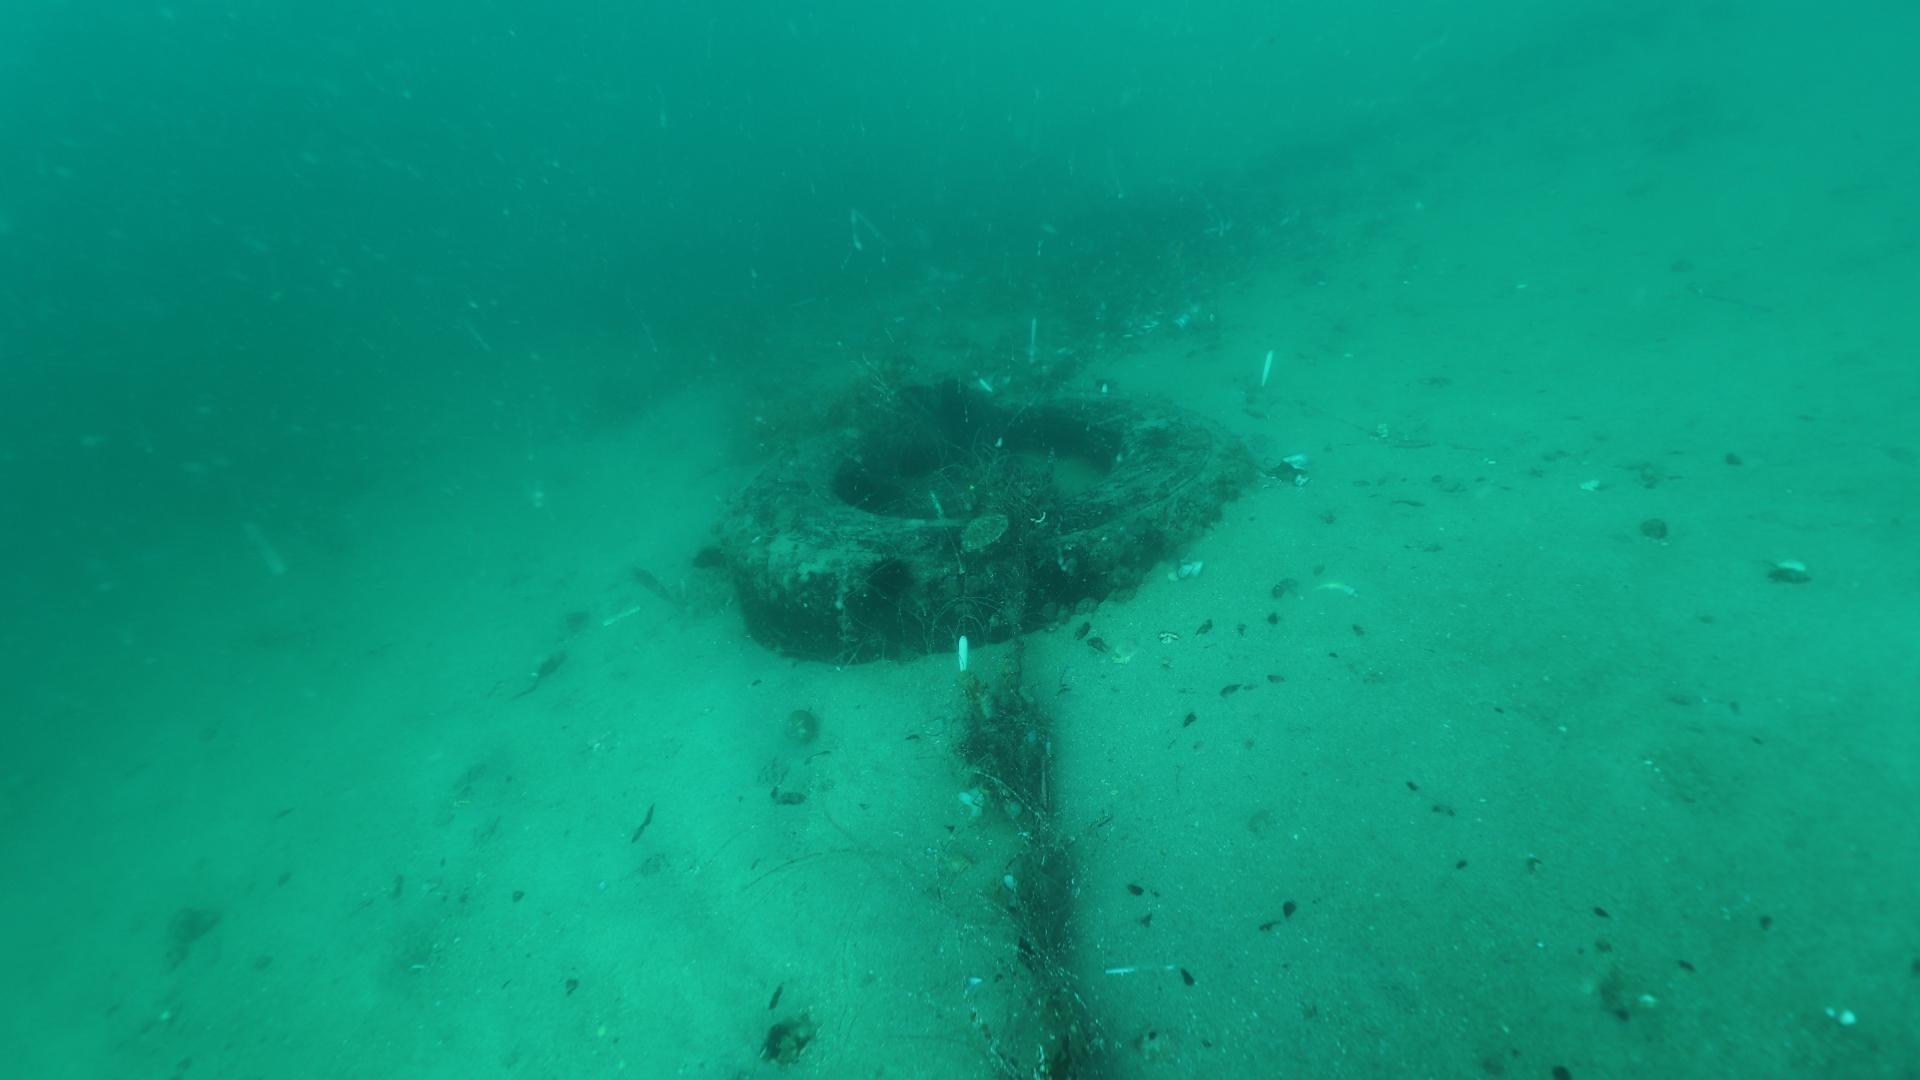tire: (712, 373, 1266, 665)
